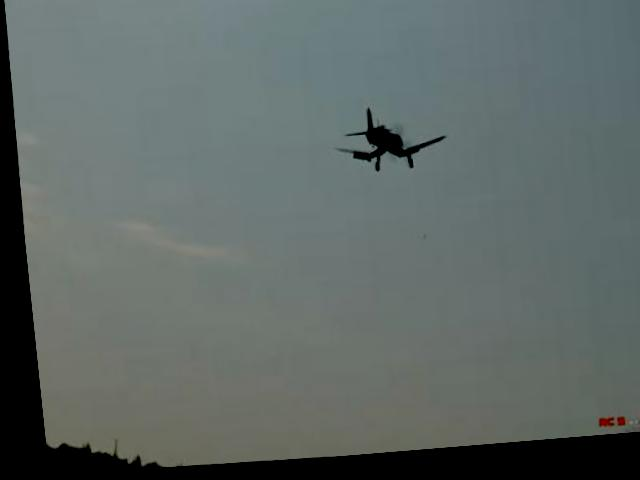uav: (322, 102, 452, 187)
